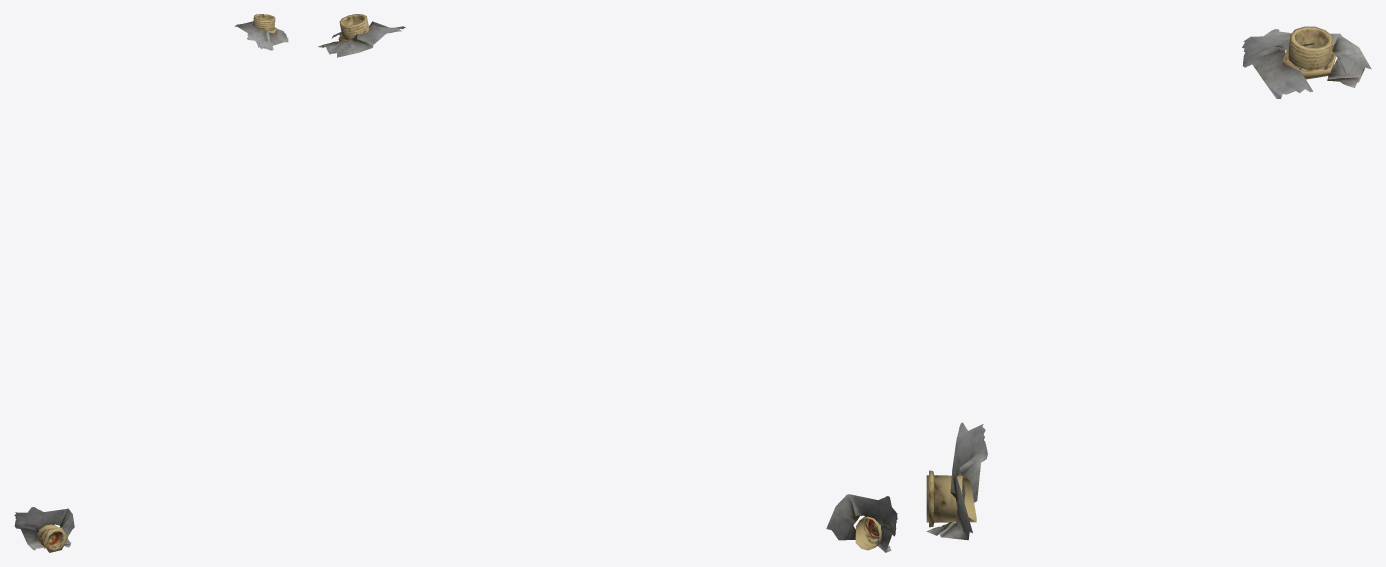
The model's file is water_desalinator.glb.
3 views of the same model, side by side, from view 1: azimuth 30°, elevation 25°; view 2: azimuth 150°, elevation 25°; view 3: azimuth 270°, elevation 25° (orthographic). The views are drawn at different scales.
Visible parts, largest first — view 1: hose_connectors_LOD0; view 2: hose_connectors_LOD0; view 3: hose_connectors_LOD0.
Part boxes in pixels (left/top/right/bottom): hose_connectors_LOD0: left=14, top=14, right=288, bottom=552; hose_connectors_LOD0: left=318, top=14, right=897, bottom=552; hose_connectors_LOD0: left=926, top=26, right=1371, bottom=540.
Size of the model in its own units: 0.8016 by 0.8592 by 0.443.
Materials: 1 (1 with a texture image).
